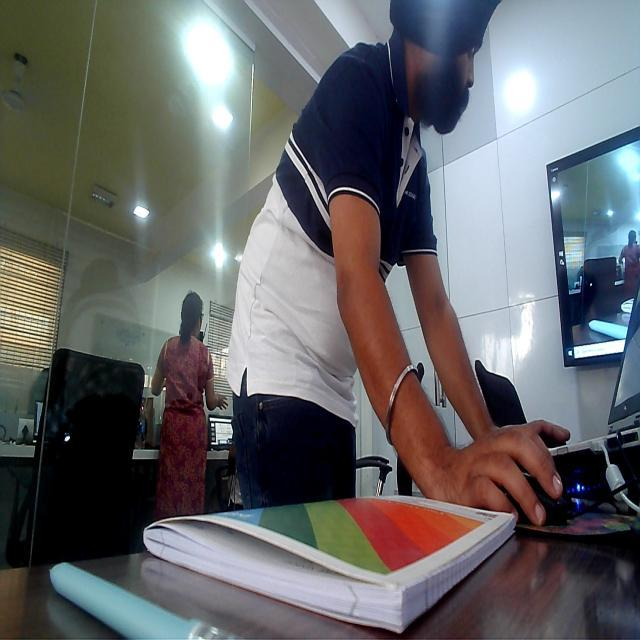without_gloves: (450, 414, 572, 534)
